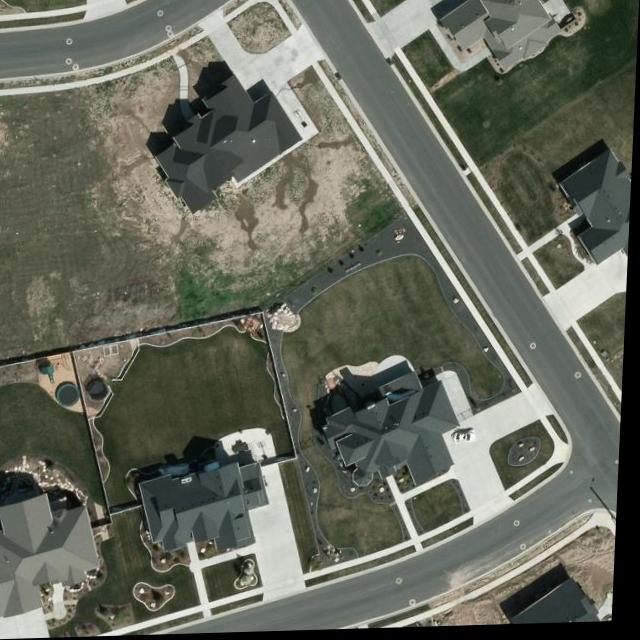vehicle: (455, 431, 482, 451)
